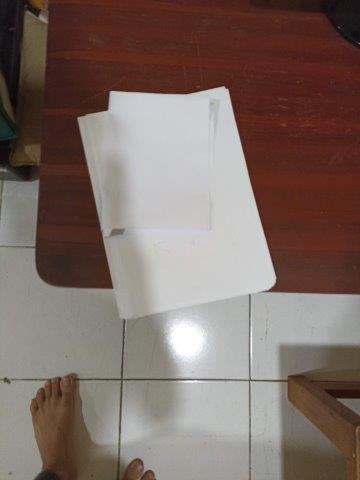kertas: (78, 86, 276, 319)
